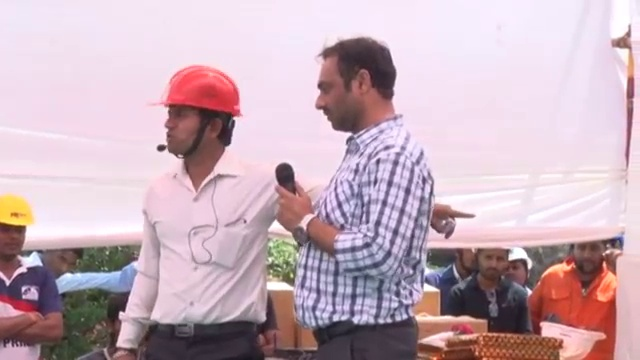helmet: (140, 60, 252, 126), (539, 321, 606, 359), (0, 198, 36, 230), (507, 250, 532, 270)
helmet_off: (313, 36, 403, 131), (100, 291, 133, 353), (470, 246, 514, 286), (569, 236, 610, 277), (35, 248, 81, 282), (452, 247, 475, 279)
helmet_on: (142, 63, 251, 175), (0, 205, 34, 258), (506, 250, 533, 289)
person: (110, 49, 324, 358), (281, 21, 448, 360), (0, 196, 60, 359), (537, 236, 623, 348), (440, 250, 537, 330), (281, 203, 323, 332), (420, 247, 478, 317)
